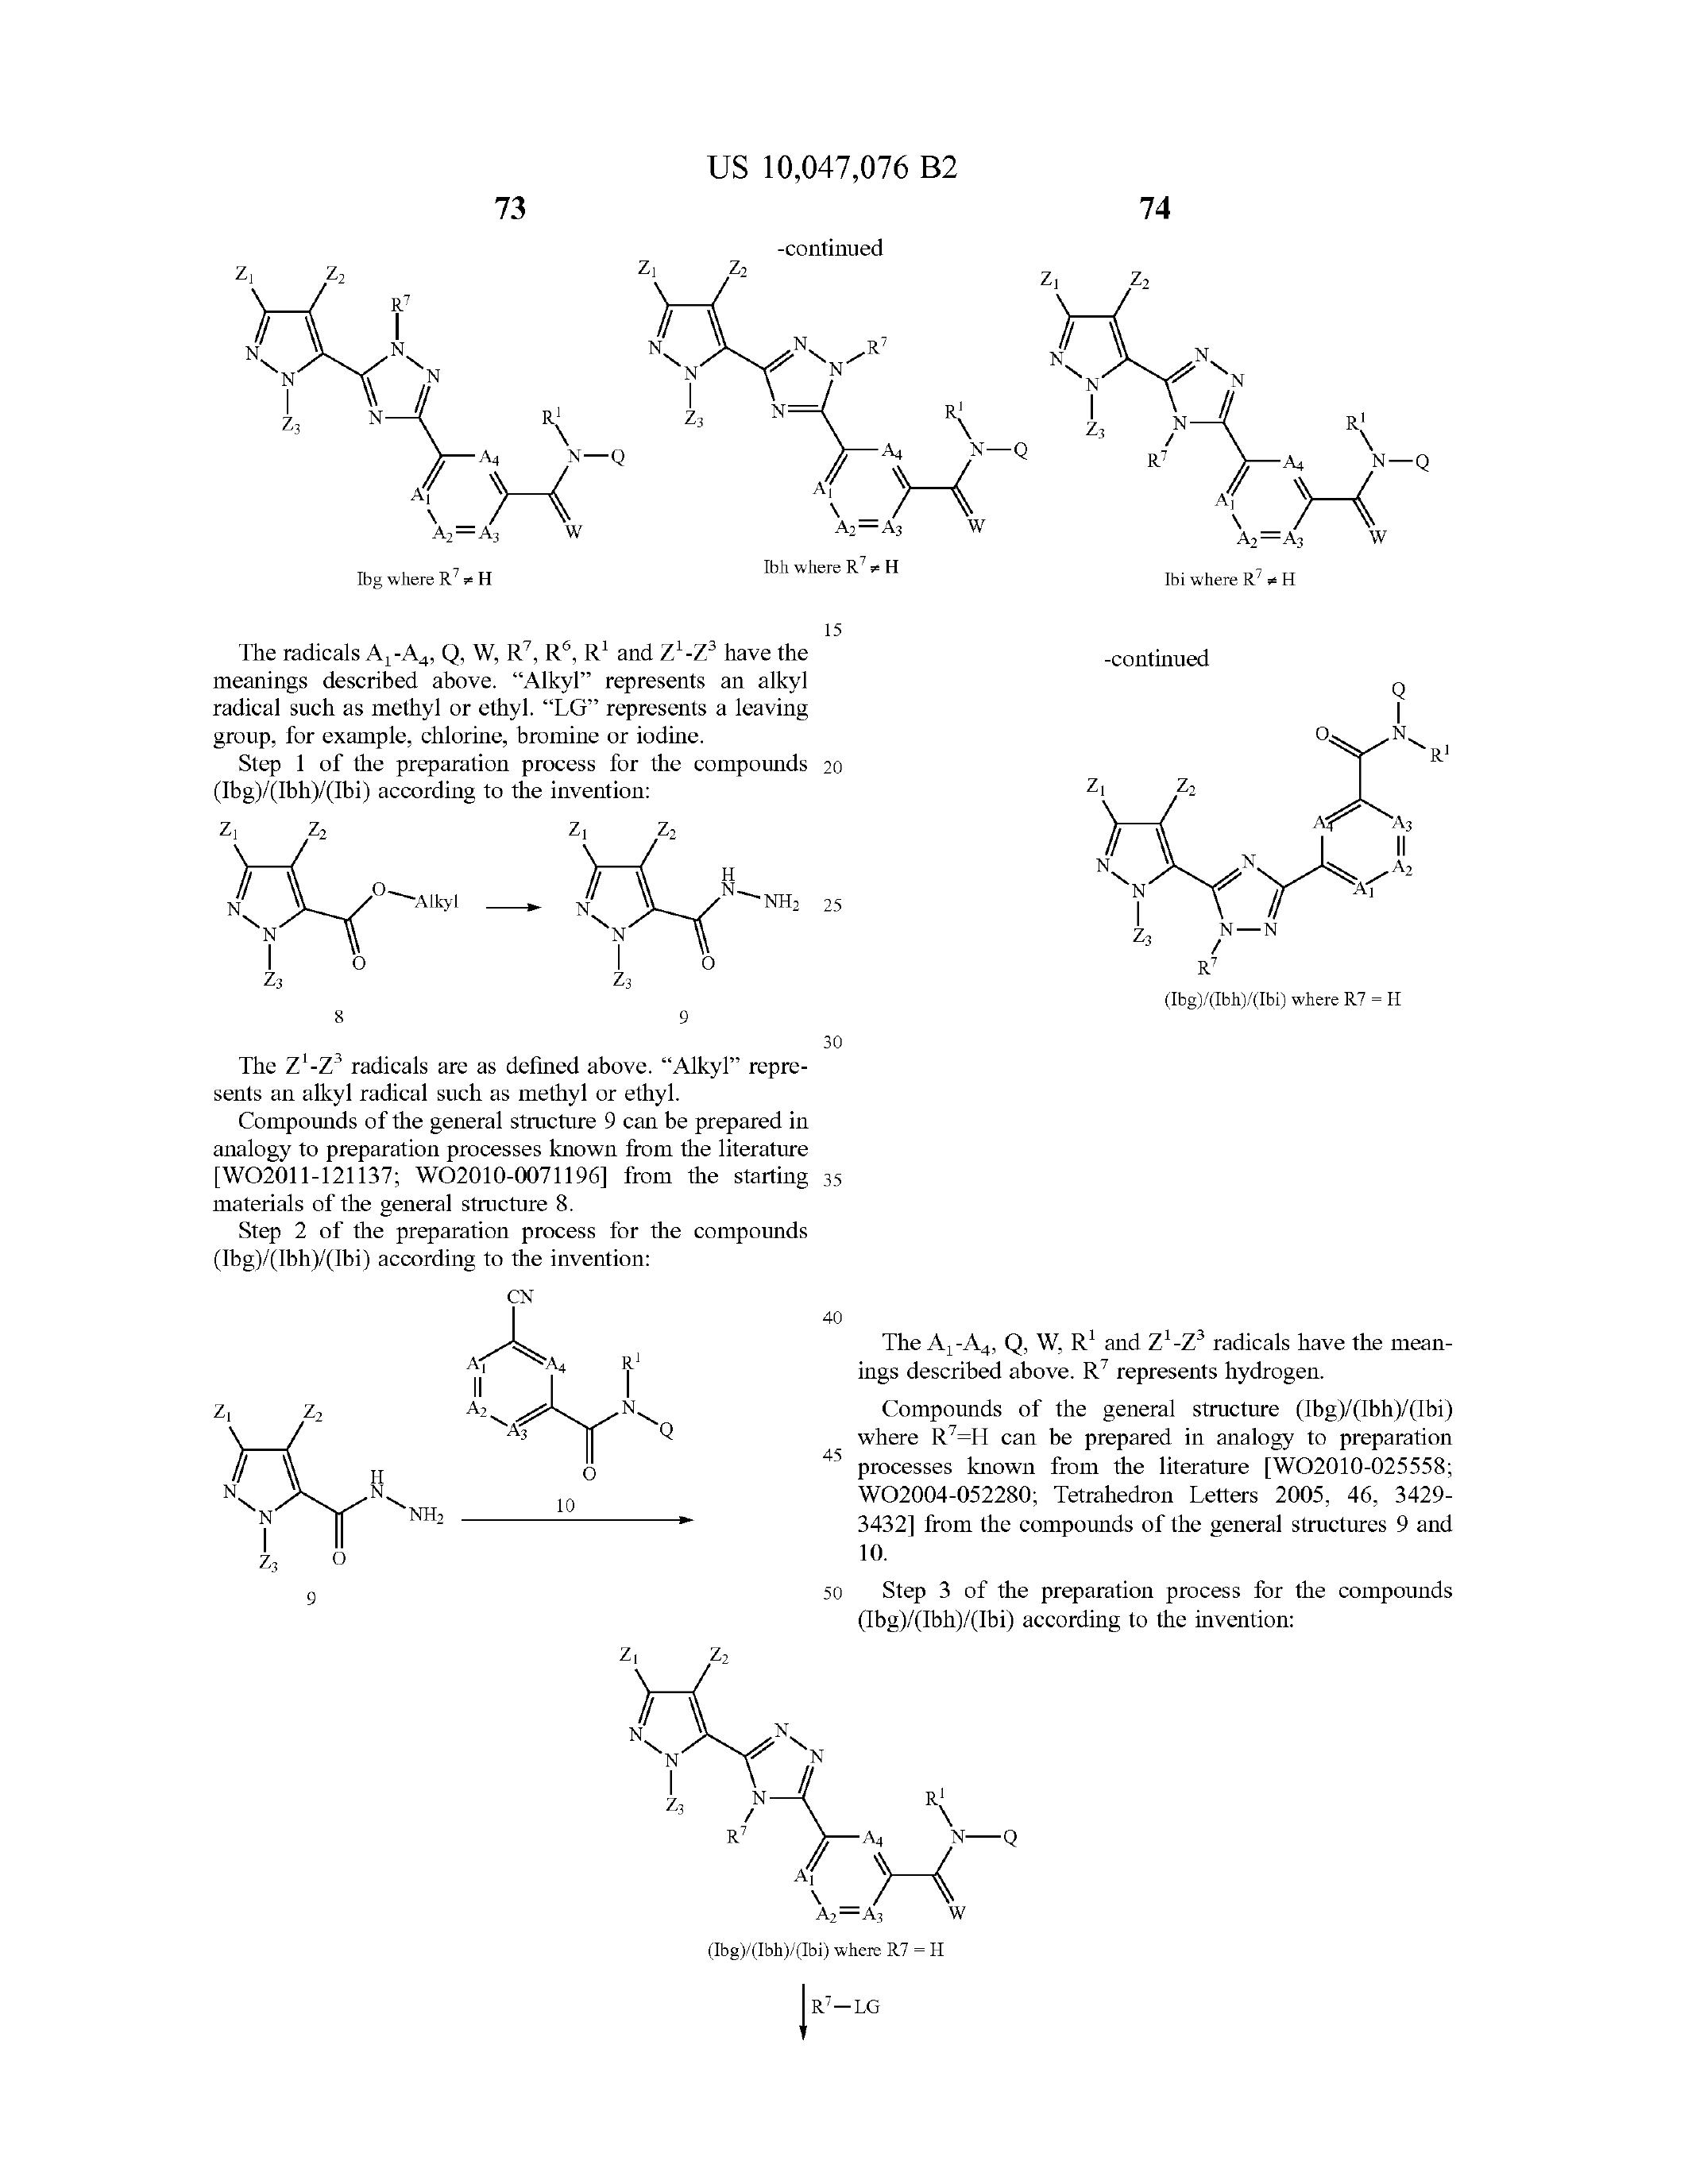markush-structures: (174, 195, 1497, 587)
